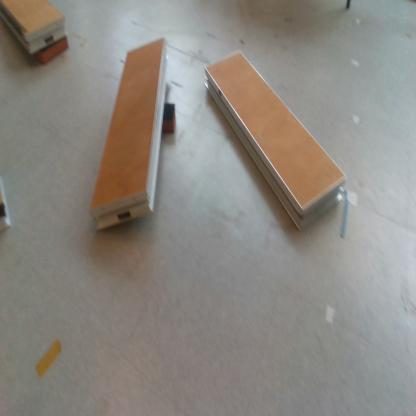Stairs: (204, 51, 352, 234), (88, 39, 172, 236), (2, 1, 71, 58)
